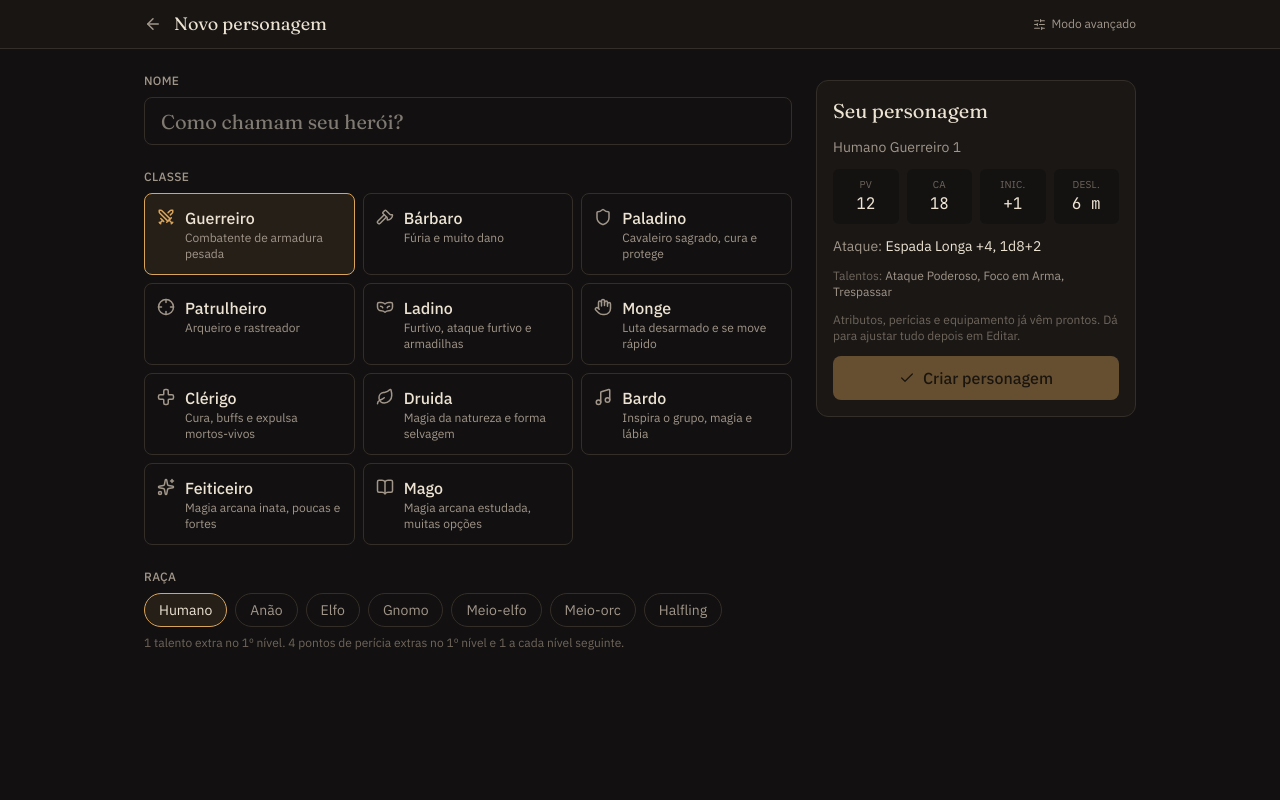
QuickCreator › mostra o erro do servidor
Type "X" into the field with placeholder "Como chamam seu herói?" at (468, 121), box x1=144 y1=97 x2=792 y2=145
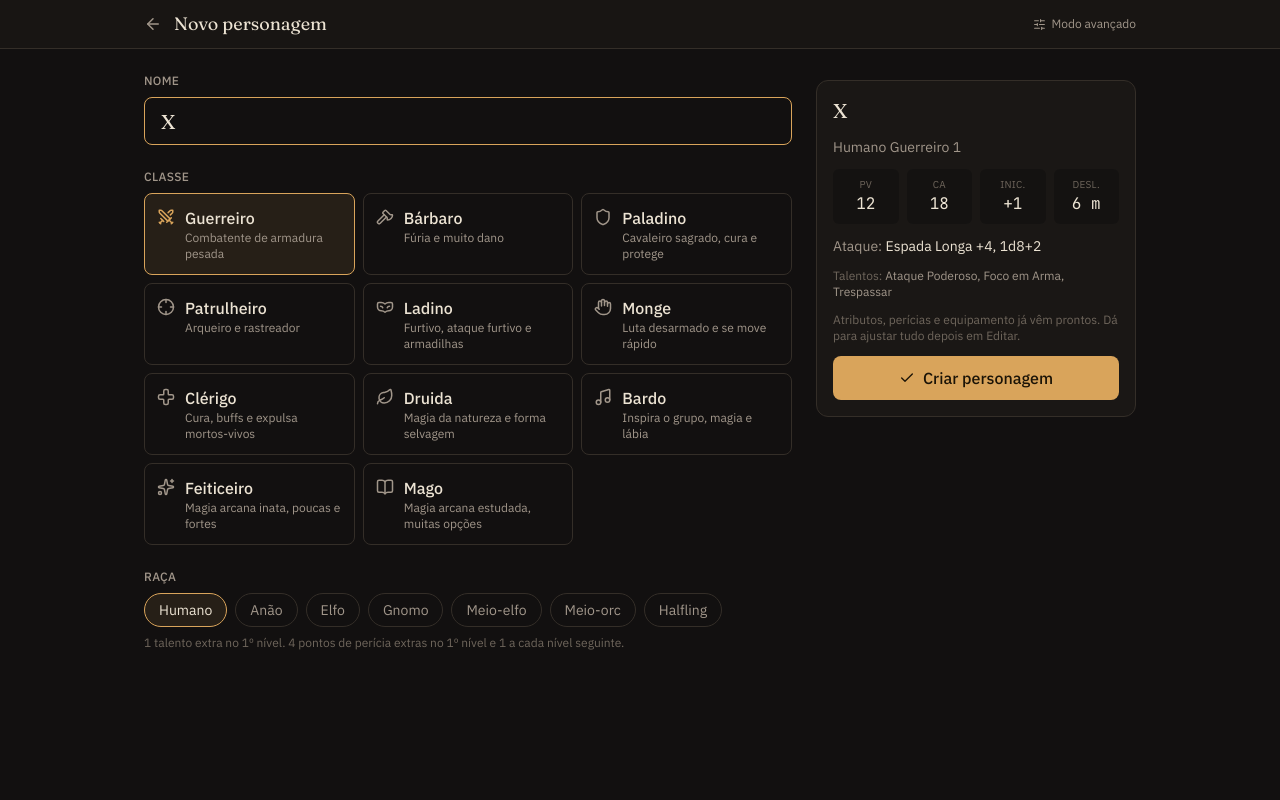
Click the button "Criar personagem" at (976, 378), box x1=833 y1=356 x2=1119 y2=400
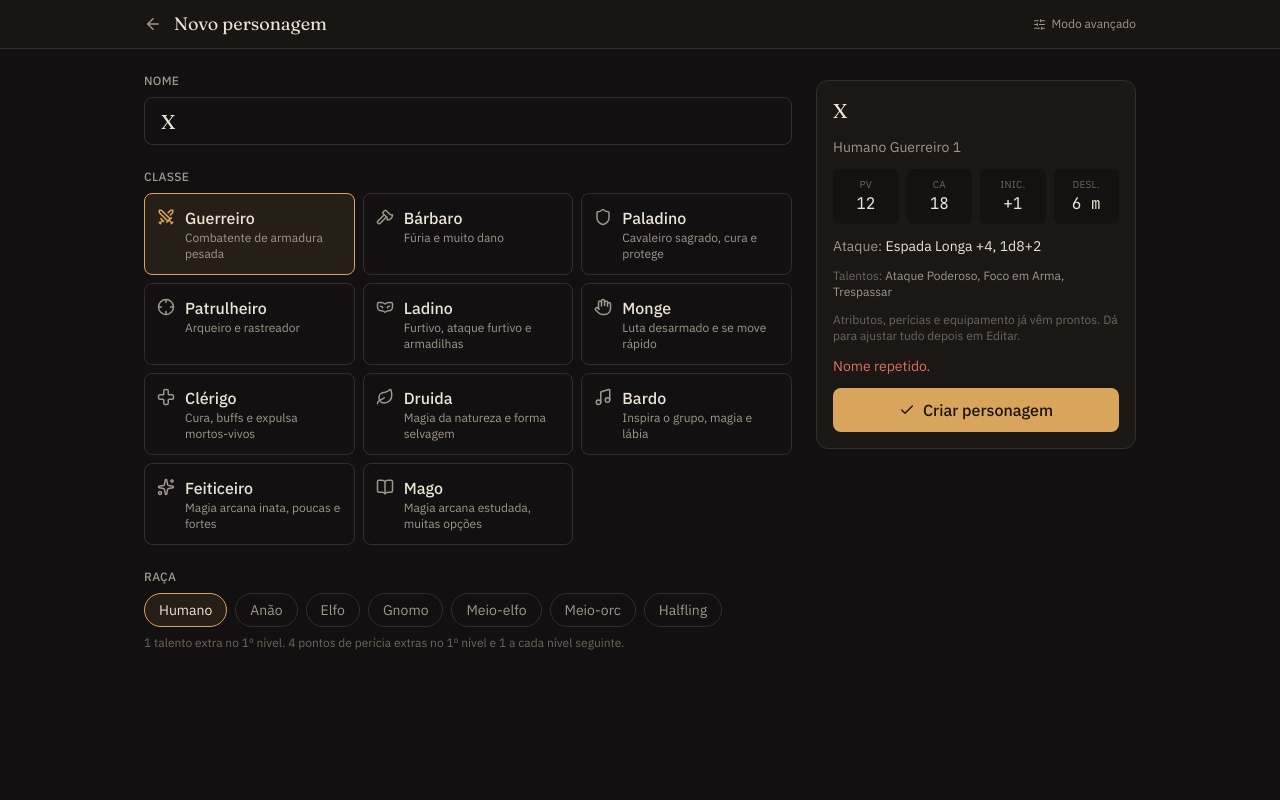
Check: the message reads "Nome repetido.", box x1=833 y1=357 x2=930 y2=375
